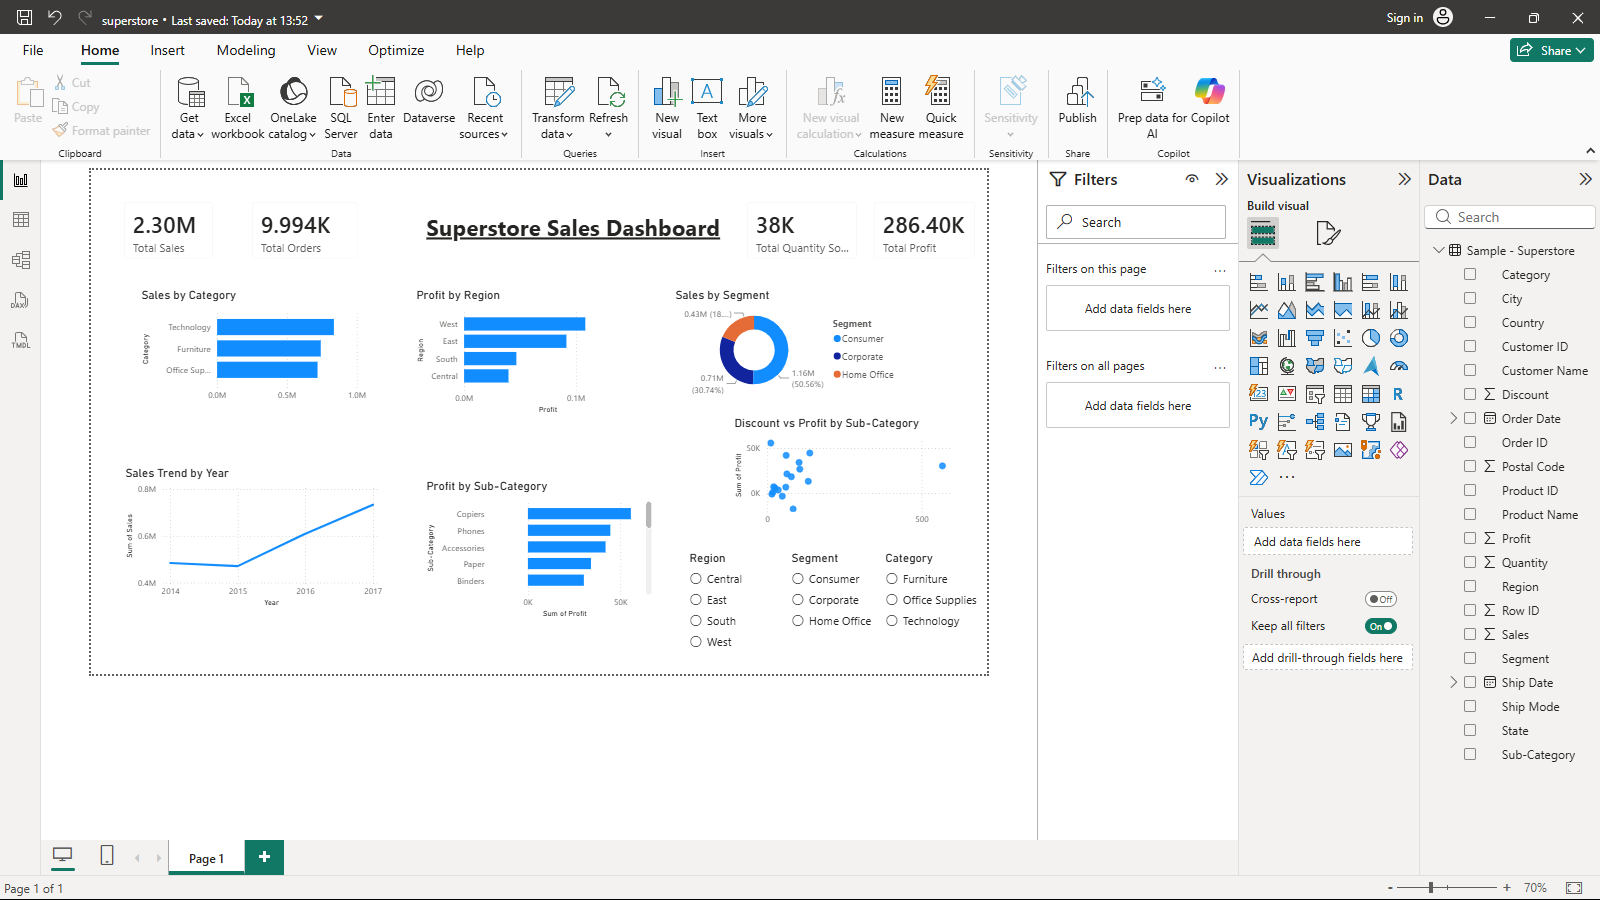

This screenshot's page, from the dashboard's own definition file:
{"tool":"powerbi","page":{"name":"Page 1","canvas":[1280,720],"ordinal":0},"visuals":[{"type":"cardVisual","fields":{"Data":["Sum(Sample - Superstore.Sales)"]},"box":[29.6,28.3,161.9,115.7],"z":0},{"type":"cardVisual","fields":{"Data":["Sum(Sample - Superstore.Profit)"]},"box":[1101.4,28.3,178.6,115.7],"z":1000},{"type":"cardVisual","fields":{"Data":["CountNonNull(Sample - Superstore.Order ID)"]},"box":[213.3,28.3,185.1,115.7],"z":2000},{"type":"cardVisual","fields":{"Data":["Sum(Sample - Superstore.Quantity)"]},"box":[920.2,28.3,191.5,115.7],"z":3000},{"type":"clusteredBarChart","fields":{"Y":["Sum(Sample - Superstore.Sales)"],"Category":["Sample - Superstore.Category"]},"box":[66.8,168.4,331.6,170.9],"z":4000},{"type":"clusteredBarChart","fields":{"Y":["Sum(Sample - Superstore.Profit)"],"Category":["Sample - Superstore.Region"]},"box":[460.1,168.4,331.6,183.8],"z":5000},{"type":"donutChart","fields":{"Y":["Sum(Sample - Superstore.Sales)"],"Category":["Sample - Superstore.Segment"]},"box":[830.2,168.4,331.6,158.1],"z":6000},{"type":"lineChart","title":"Sales Trend by Year","fields":{"Category":["Sample - Superstore.Order Date.Variation.Date Hierarchy.Year","Sample - Superstore.Order Date.Variation.Date Hierarchy.Quarter","Sample - Superstore.Order Date.Variation.Date Hierarchy.Month","Sample - Superstore.Order Date.Variation.Date Hierarchy.Day"],"Y":["Sum(Sample - Superstore.Sales)"]},"box":[43.7,422.8,376.5,205.6],"z":7000},{"type":"clusteredBarChart","title":"Profit by Sub-Category","fields":{"Y":["Sum(Sample - Superstore.Profit)"],"Category":["Sample - Superstore.Sub-Category"]},"box":[474.2,442.1,331.6,203.1],"z":8000},{"type":"scatterChart","title":"Discount vs Profit by Sub-Category","fields":{"X":["Sum(Sample - Superstore.Discount)"],"Y":["Sum(Sample - Superstore.Profit)"],"Category":["Sample - Superstore.Sub-Category"]},"box":[913.7,352.1,331.6,165.8],"z":9000},{"type":"listSlicer","fields":{"Values":["Sample - Superstore.Region"]},"box":[849.5,543.6,128.5,150.4],"z":10000},{"type":"listSlicer","fields":{"Values":["Sample - Superstore.Segment"]},"box":[996,543.6,125.9,150.4],"z":11000},{"type":"listSlicer","fields":{"Values":["Sample - Superstore.Category"]},"box":[1130,544,150,150],"z":12000},{"type":"textbox","box":[474.2,54,439.5,68.1],"z":12002}]}

Visuals, with their boxes on the page's 1280x720 design canvas (x1, y1, x2, y2). These are canvas units, not pixel positions in the 1600x900 screenshot, which may show the page scaled, cropped or inside an application window:
cardVisual - Sum(Sample - Superstore.Sales): left=30, top=28, right=192, bottom=144
cardVisual - Sum(Sample - Superstore.Profit): left=1101, top=28, right=1280, bottom=144
cardVisual - CountNonNull(Sample - Superstore.Order ID): left=213, top=28, right=398, bottom=144
cardVisual - Sum(Sample - Superstore.Quantity): left=920, top=28, right=1112, bottom=144
clusteredBarChart - Sum(Sample - Superstore.Sales) x Sample - Superstore.Category: left=67, top=168, right=398, bottom=339
clusteredBarChart - Sum(Sample - Superstore.Profit) x Sample - Superstore.Region: left=460, top=168, right=792, bottom=352
donutChart - Sum(Sample - Superstore.Sales) x Sample - Superstore.Segment: left=830, top=168, right=1162, bottom=326
"Sales Trend by Year" lineChart: left=44, top=423, right=420, bottom=628
"Profit by Sub-Category" clusteredBarChart: left=474, top=442, right=806, bottom=645
"Discount vs Profit by Sub-Category" scatterChart: left=914, top=352, right=1245, bottom=518
listSlicer - Sample - Superstore.Region: left=850, top=544, right=978, bottom=694
listSlicer - Sample - Superstore.Segment: left=996, top=544, right=1122, bottom=694
listSlicer - Sample - Superstore.Category: left=1130, top=544, right=1280, bottom=694
textbox: left=474, top=54, right=914, bottom=122
